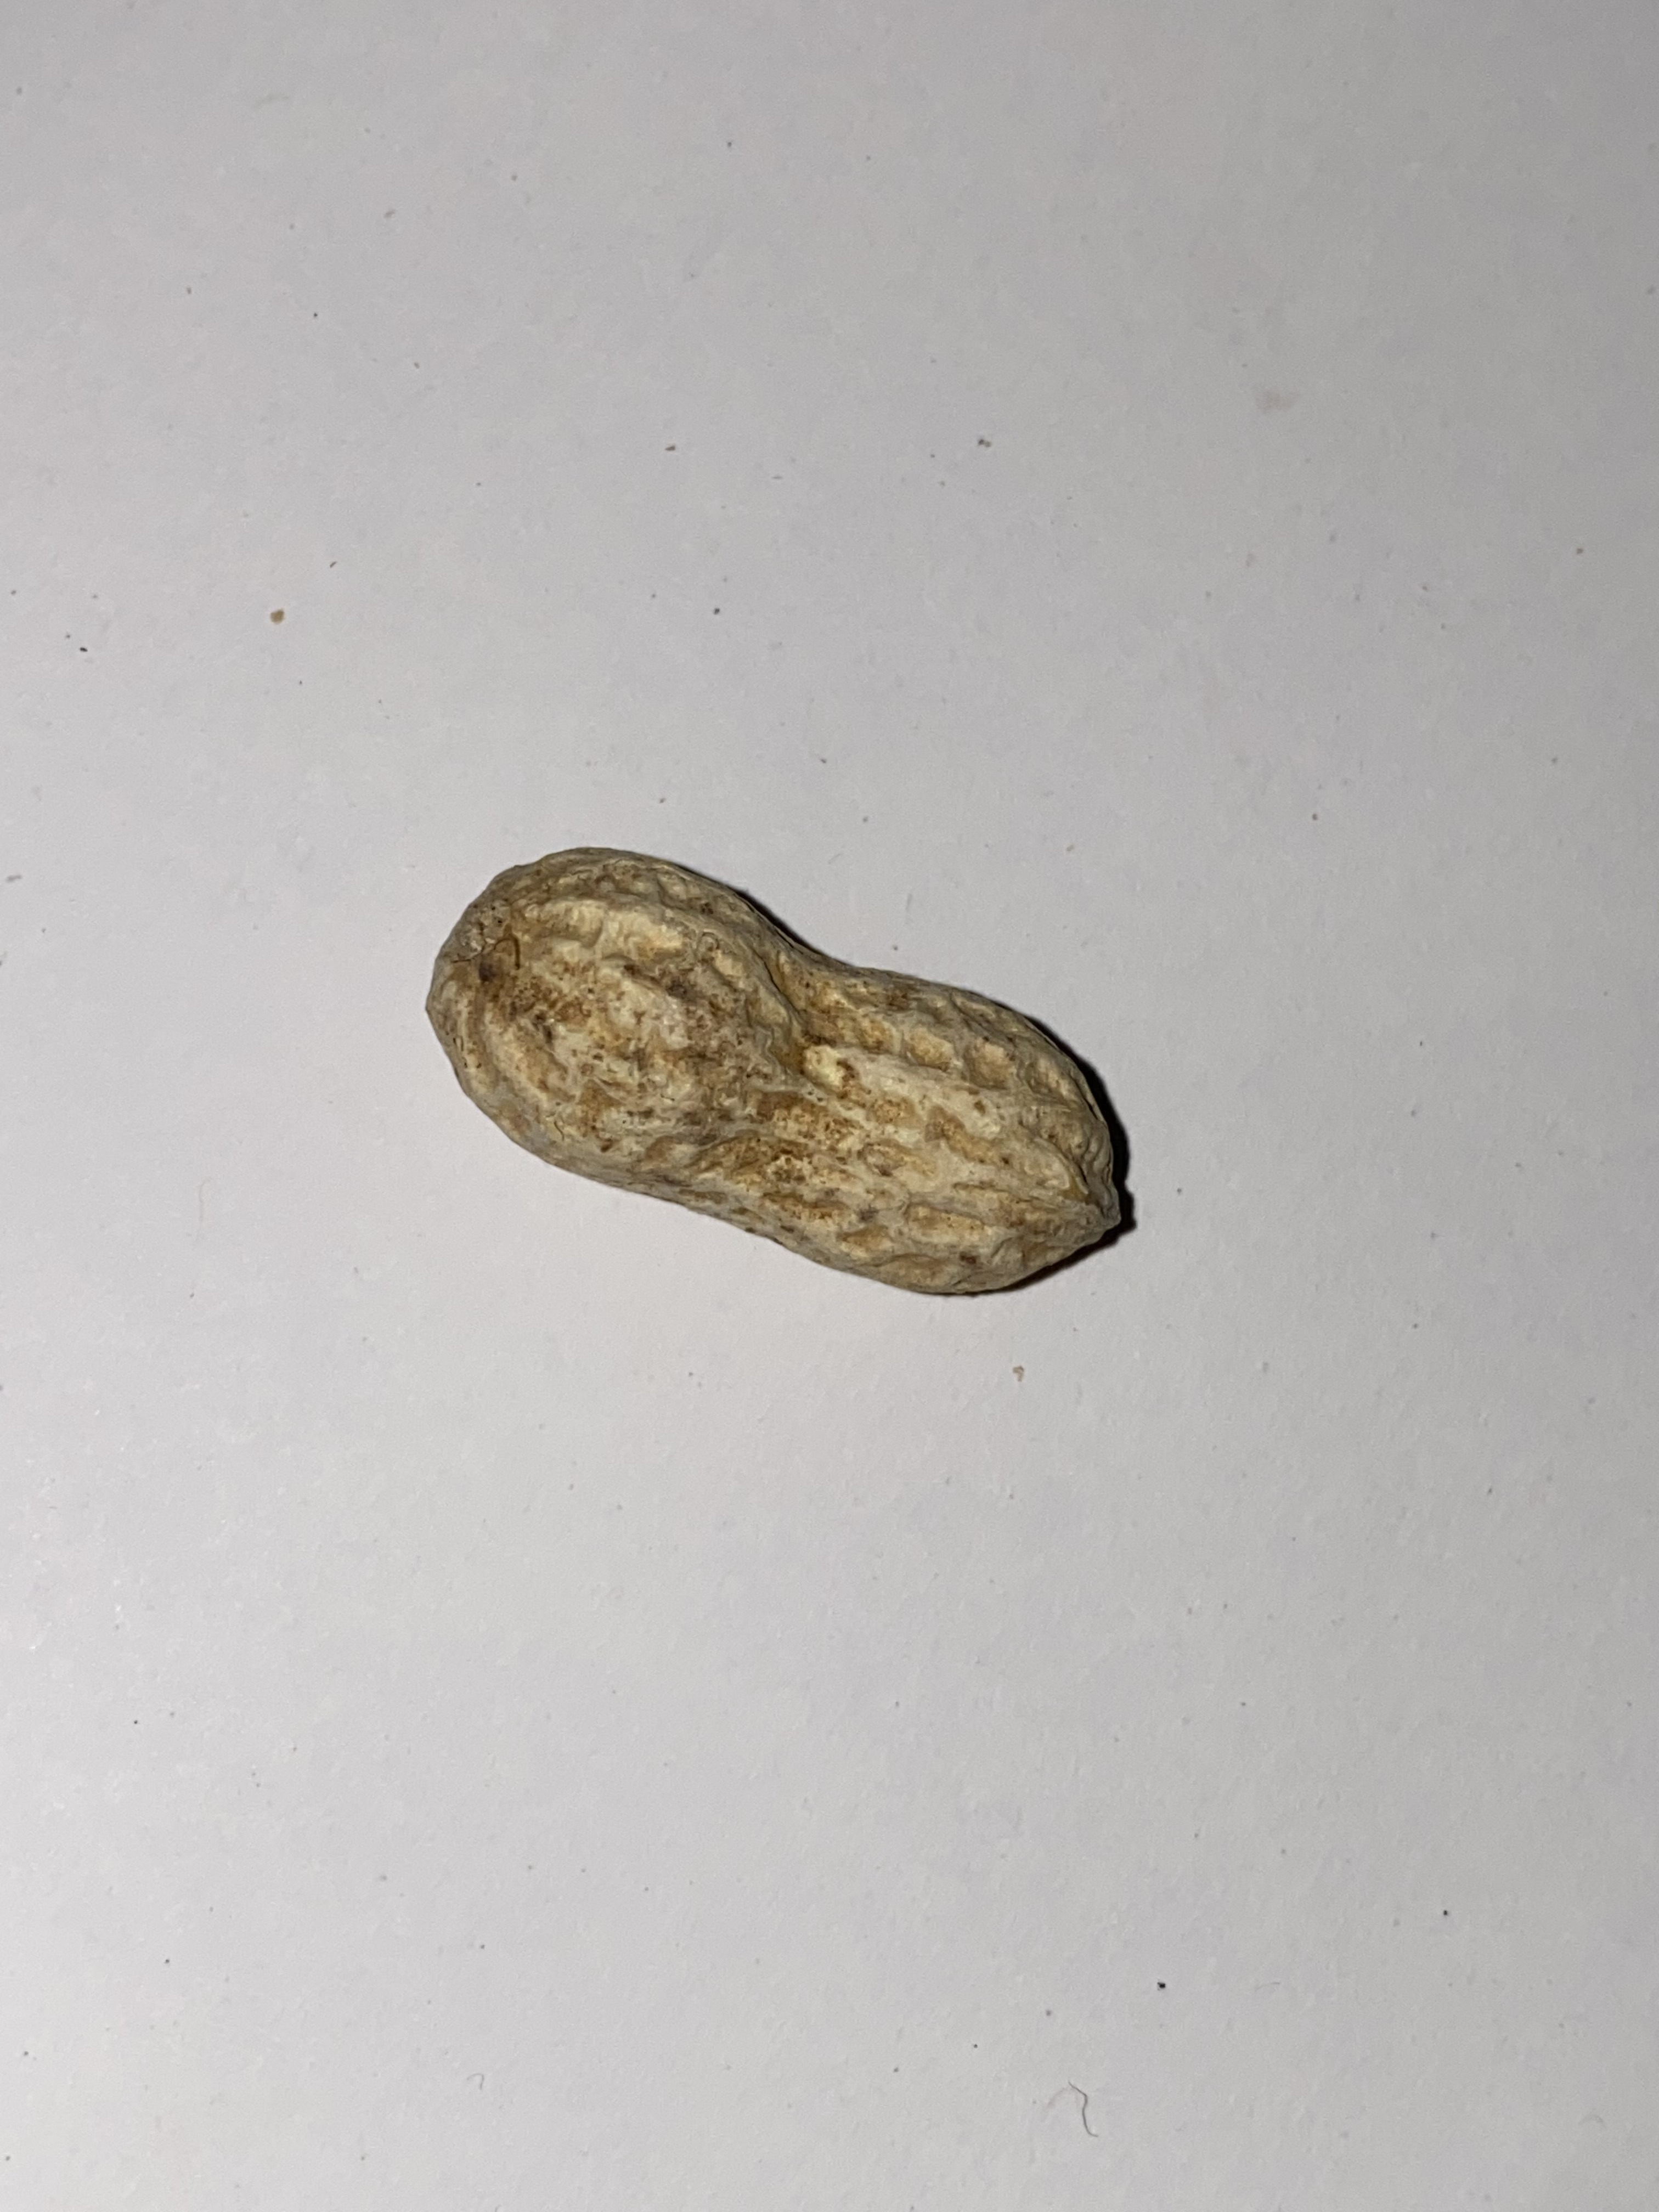kacang2: (396, 815, 1154, 1308)
